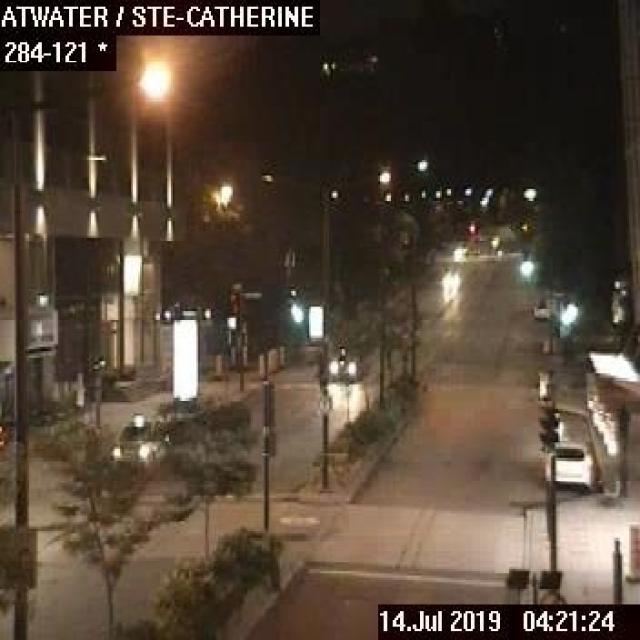construction: (622, 520, 638, 582), (606, 420, 616, 457), (602, 410, 610, 444), (596, 402, 604, 434), (591, 395, 598, 425), (213, 353, 220, 379), (277, 344, 284, 367), (257, 352, 263, 377), (265, 350, 271, 373), (271, 348, 276, 371)
vehicle: (111, 413, 171, 466), (544, 438, 596, 489), (326, 346, 364, 379), (438, 267, 461, 287), (533, 298, 548, 319)
